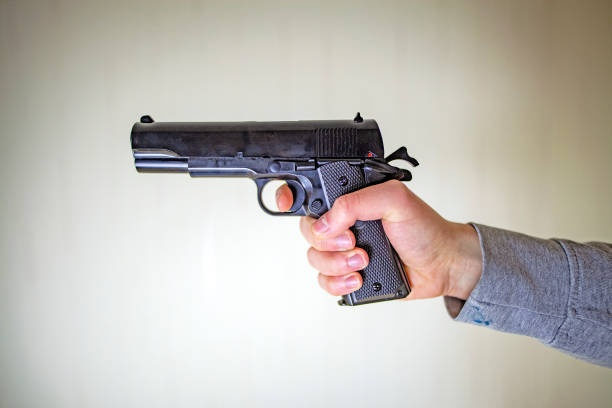pistol: (129, 115, 420, 307)
